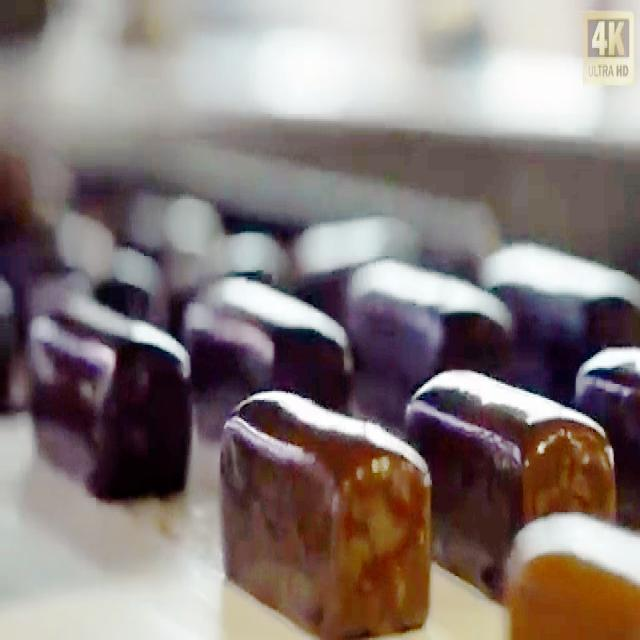Choco: (215, 384, 434, 633), (404, 361, 617, 601), (27, 284, 193, 498), (348, 237, 512, 414), (196, 261, 348, 444), (480, 227, 640, 387), (502, 508, 638, 634), (575, 337, 640, 515)
